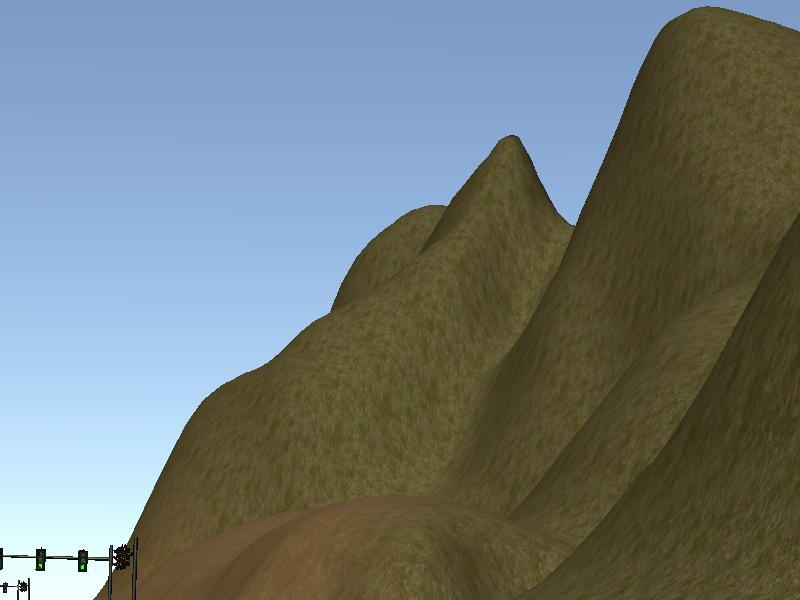Green: (35, 547, 46, 571), (77, 549, 88, 572)
